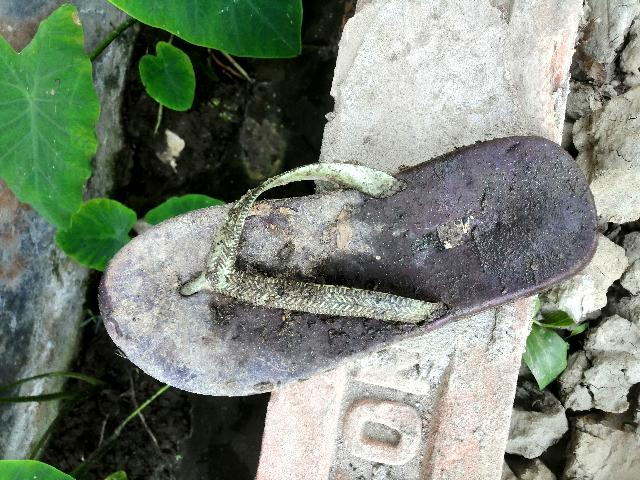sandal: (91, 77, 607, 417)
